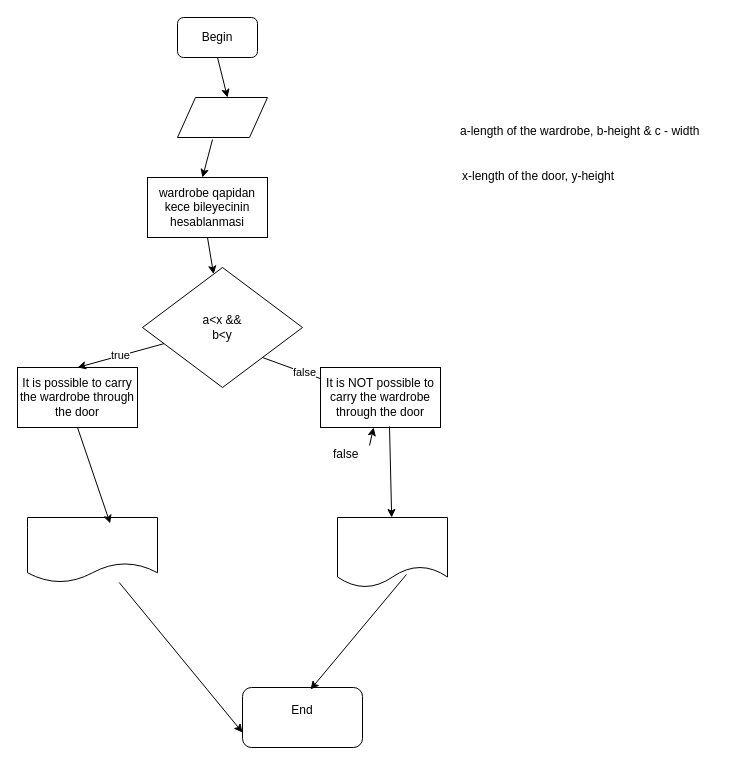
The diagram is 736 pixels wide and 765 high, and some of its shapes have lost their labels. The box of each missing label's shape, as (x1, y1, x2, y2) in pixels:
a,b,c,x,y: (176, 96, 268, 138)
NO print ele: (336, 516, 448, 588)
YES print ele: (26, 516, 158, 582)
